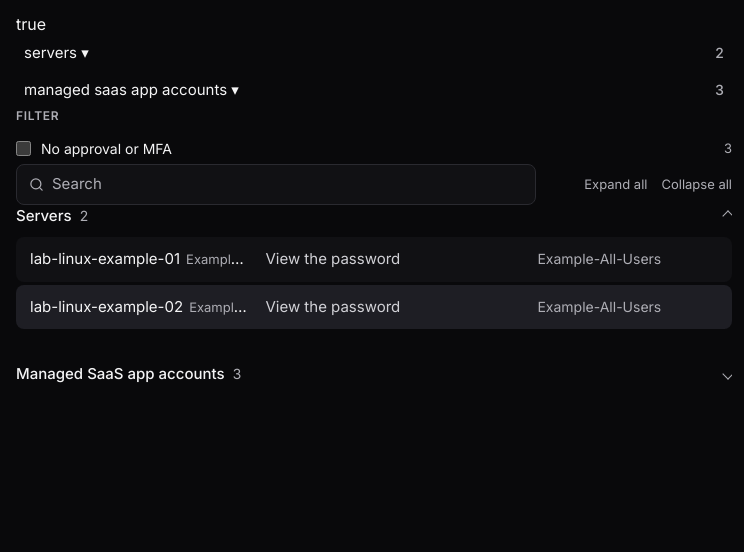
resource sections (GrantsMain) › the "No approval or MFA" filter hides rows, drops empty sections and restripes
Click the button "Expand all": (616, 184) top-left (584, 174), bottom-right (648, 194)
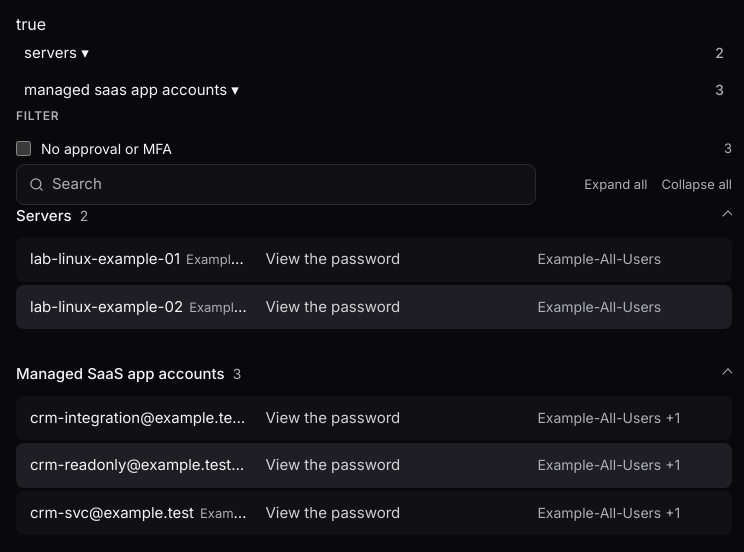
Expected: the number of list items with class "xp-row" is 5, top-left (16, 237), bottom-right (732, 282); top-left (16, 284), bottom-right (732, 329); top-left (16, 396), bottom-right (732, 440); top-left (16, 443), bottom-right (732, 488); top-left (16, 490), bottom-right (732, 535)
Click the checkbox labelled "No approval or MFA 3": (24, 148) top-left (16, 141), bottom-right (31, 156)
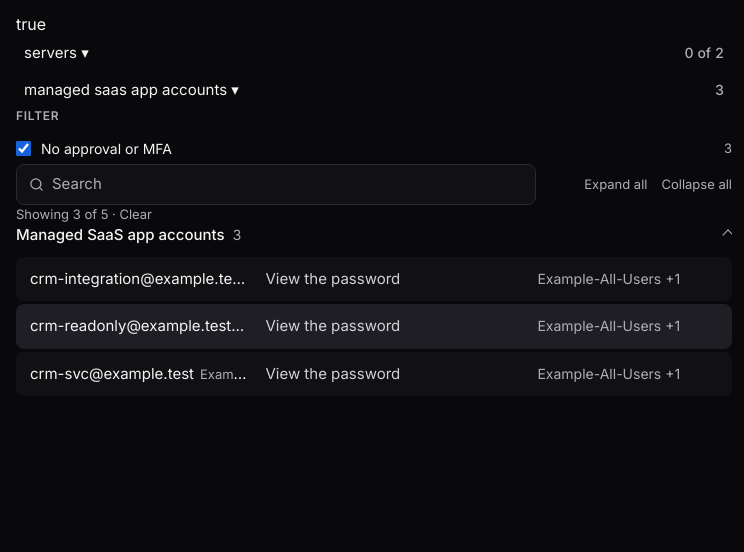
Expected: the button "lab-linux-example-01" is gone
Expected: the text "Showing 3 of 5 · Clear" is shown, top-left (16, 204), bottom-right (152, 224)
Click the button "Clear": (136, 214) top-left (119, 204), bottom-right (152, 224)
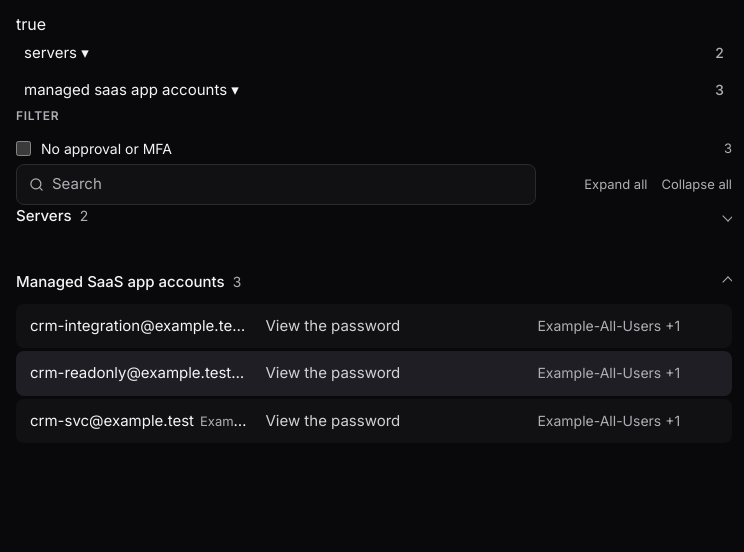
Click the button "Expand all": (616, 184) top-left (584, 174), bottom-right (648, 194)
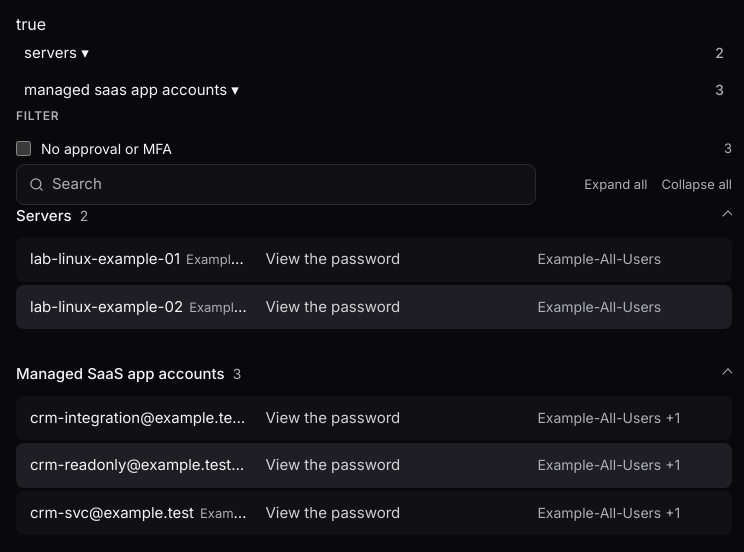
Expected: the number of list items with class "xp-row" is 5, top-left (16, 237), bottom-right (732, 282); top-left (16, 284), bottom-right (732, 329); top-left (16, 396), bottom-right (732, 440); top-left (16, 443), bottom-right (732, 488); top-left (16, 490), bottom-right (732, 535)
